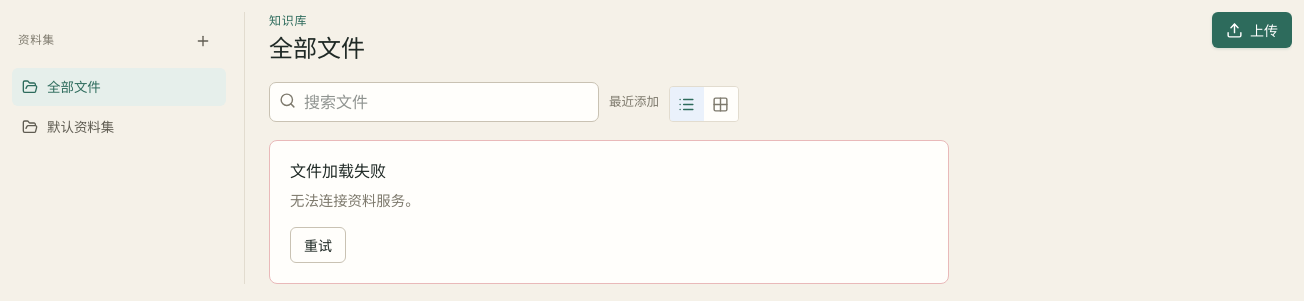
LibraryPage › shows a retry action after the document query fails
The image size is (1304, 301).
Click the button "重试" at (318, 245), box [290,227,346,263]
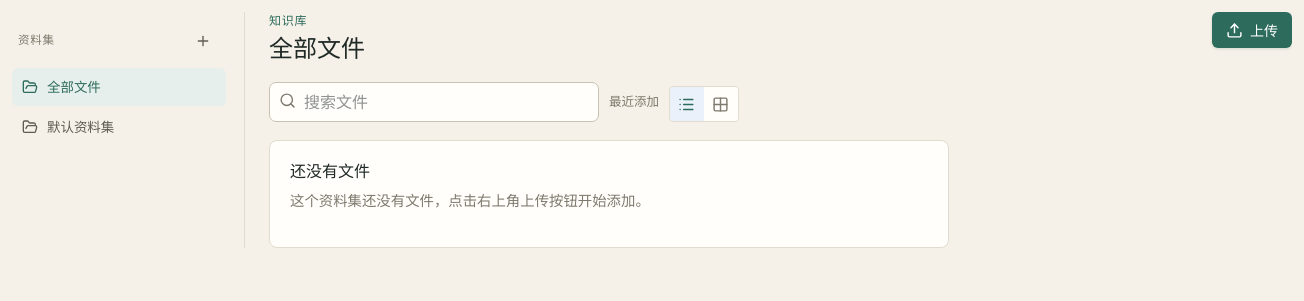
Check: the heading "还没有文件" is shown, box [290,161,370,181]
